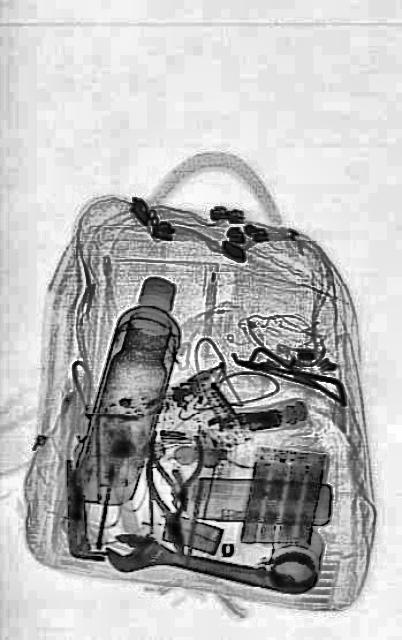Pliers: (146, 421, 206, 517), (143, 452, 191, 558)
Wrench: (103, 526, 295, 600)
